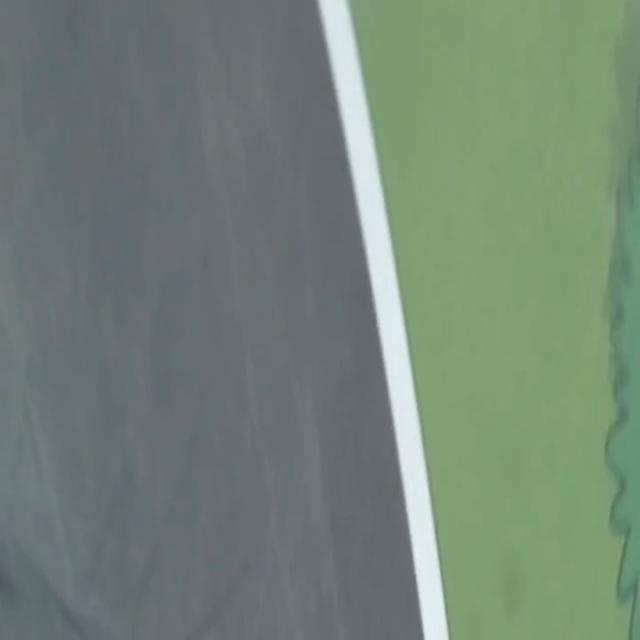right: (317, 0, 448, 639)
